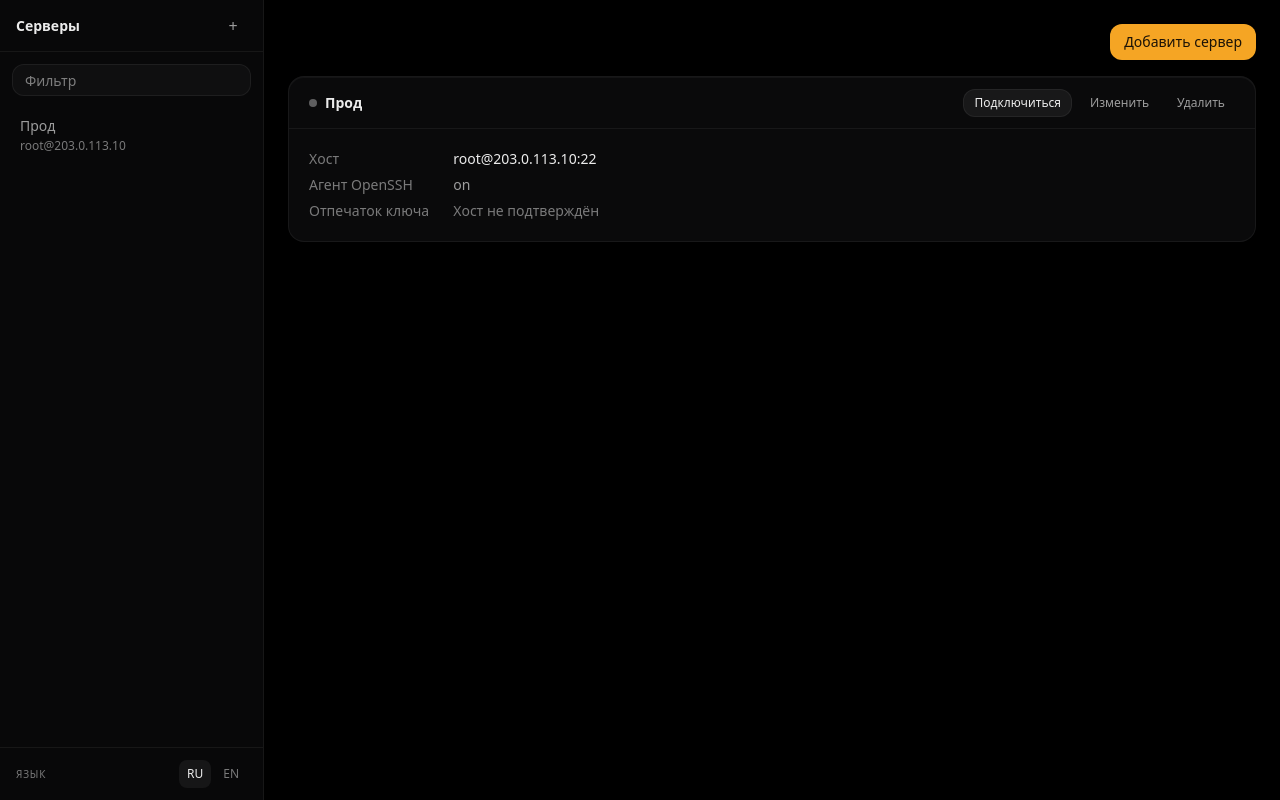
Test case: такты и история живут в оболочке › история метрик переживает уход на другой экран
The width and height of the screenshot is (1280, 800).
Click the button "Прод root@203.0.113.10" at point(132, 135), box top-left (8, 108), bottom-right (255, 162)
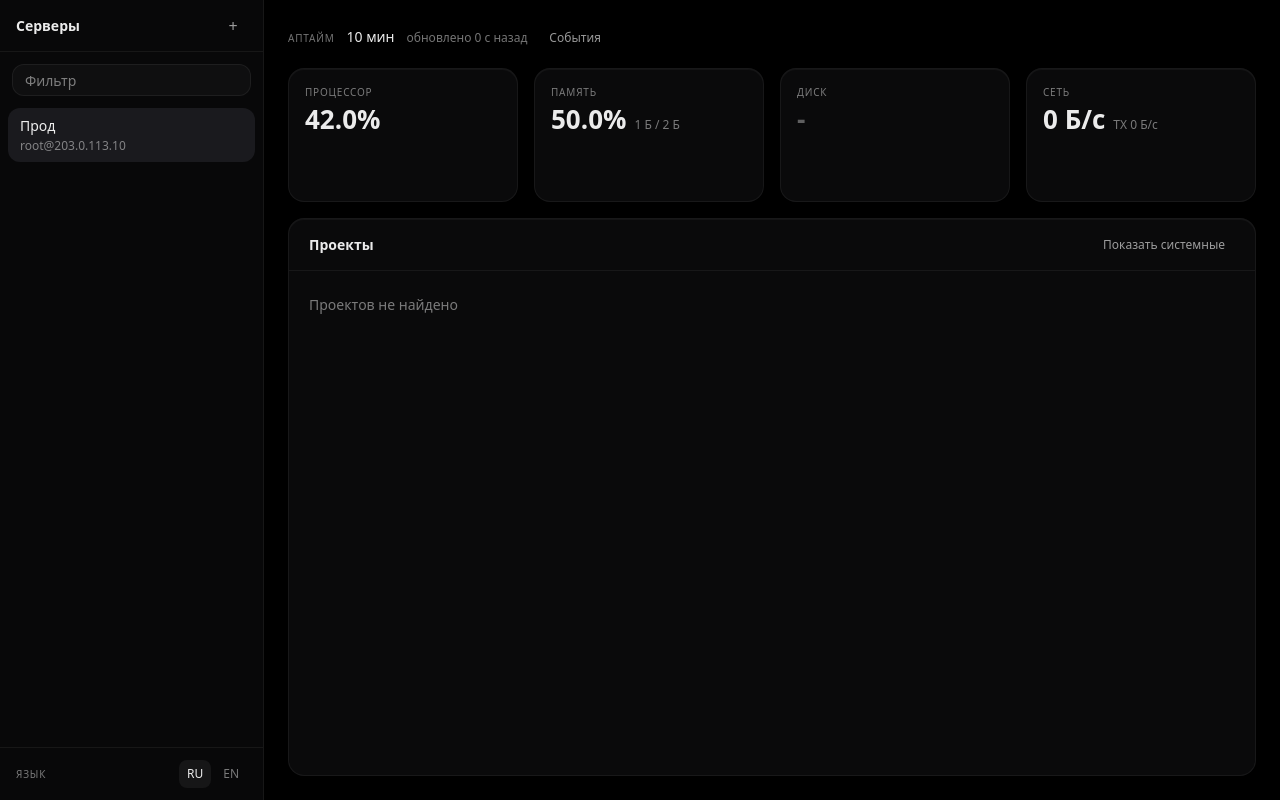
Expected: the text "42.0%" is shown, top-left (305, 106), bottom-right (380, 132)
// Ушли в ленту и вернулись.
Click the button "События" at point(575, 38), box top-left (539, 24), bottom-right (611, 52)
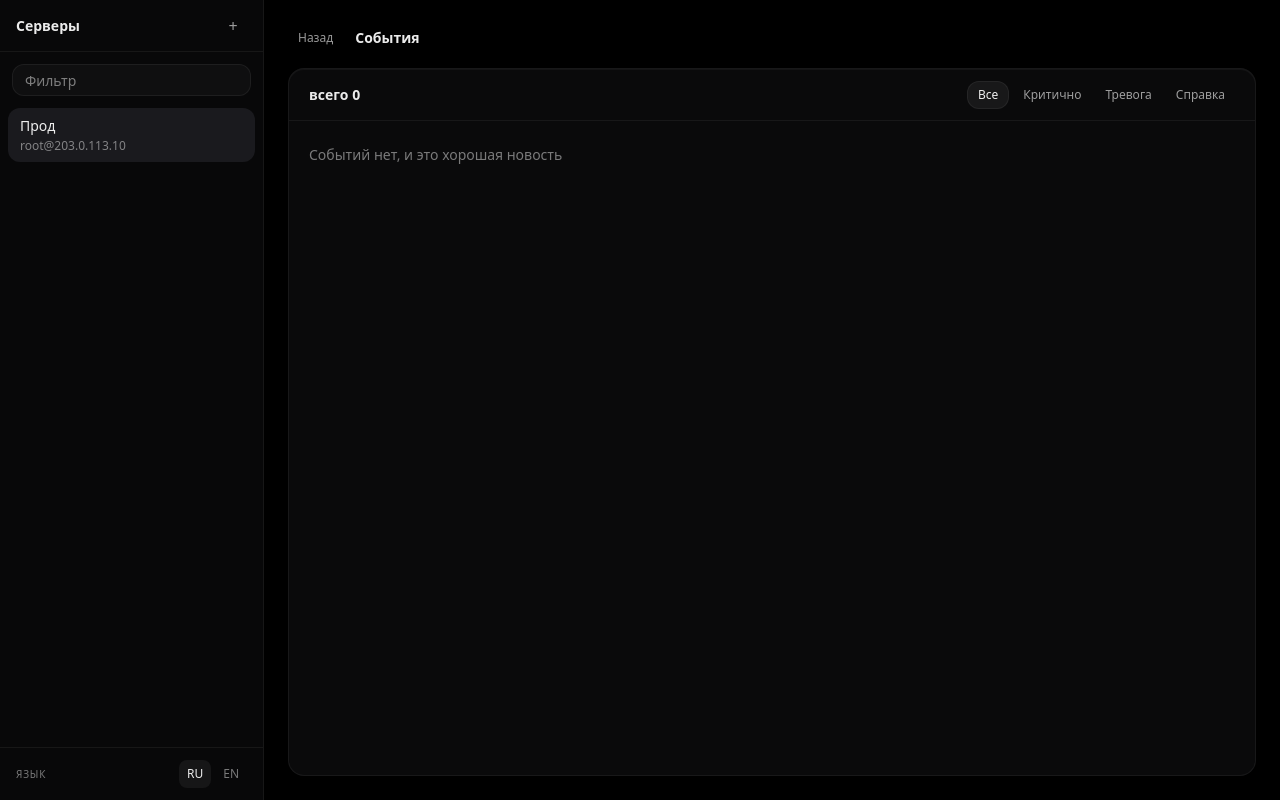
Click the button "Назад" at point(316, 38), box top-left (288, 24), bottom-right (343, 52)
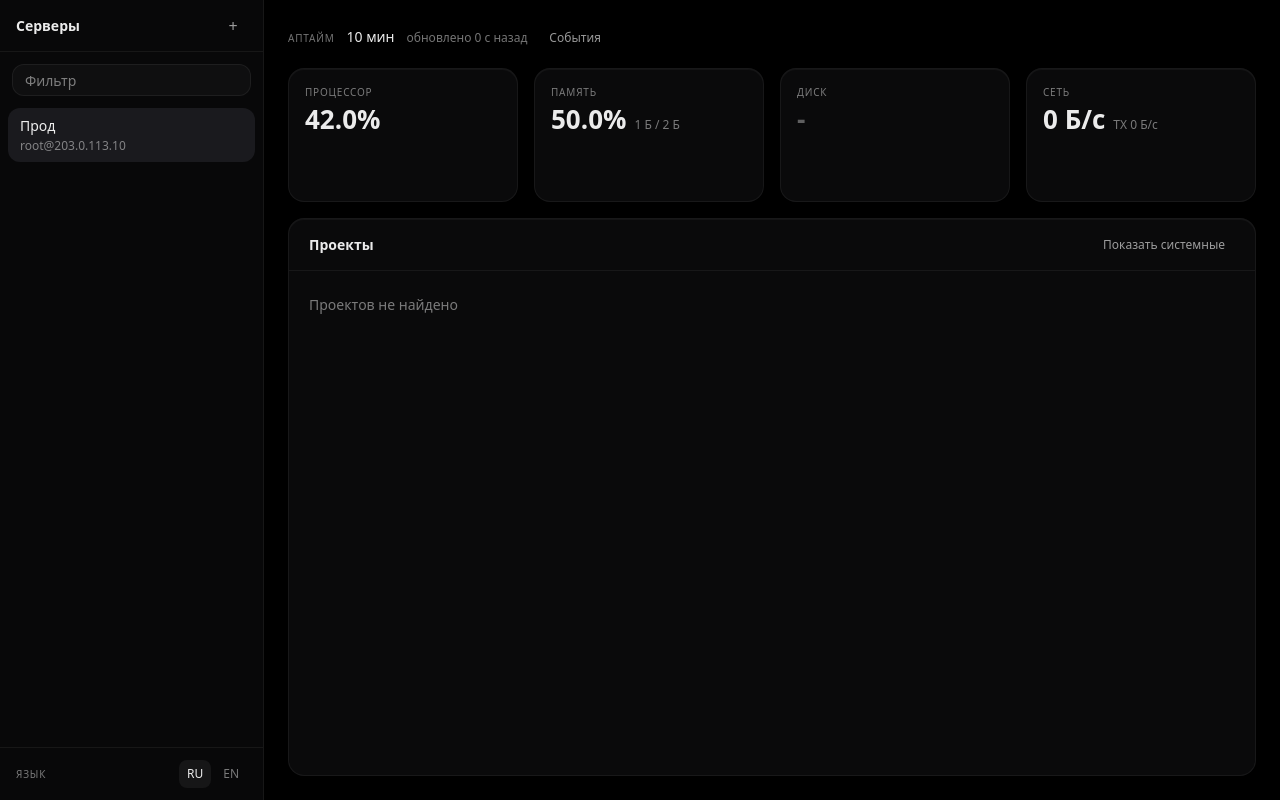
Expected: the text "42.0%" is shown, top-left (305, 106), bottom-right (380, 132)
